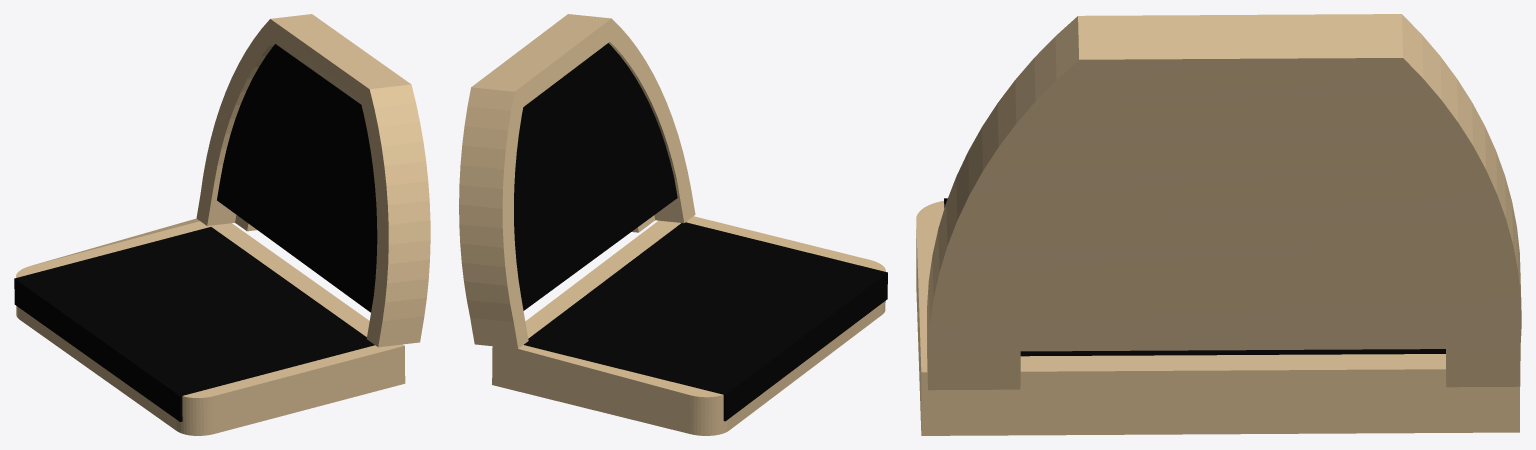
Rendered from BassBoat-BackSeat.obj.
3 views of the same model, side by side, from view 1: azimuth 30°, elevation 25°; view 2: azimuth 150°, elevation 25°; view 3: azimuth 270°, elevation 25° (orthographic). The views are drawn at different scales.
Visible parts, largest first — view 1: BackSeat; view 2: BackSeat; view 3: BackSeat.
Part boxes in pixels (bbox=[...]): BackSeat: bbox=[14, 14, 430, 435]; BackSeat: bbox=[459, 14, 887, 435]; BackSeat: bbox=[916, 14, 1521, 435].
Size of the model in its own units: 0.2263 by 0.2039 by 0.2581.
